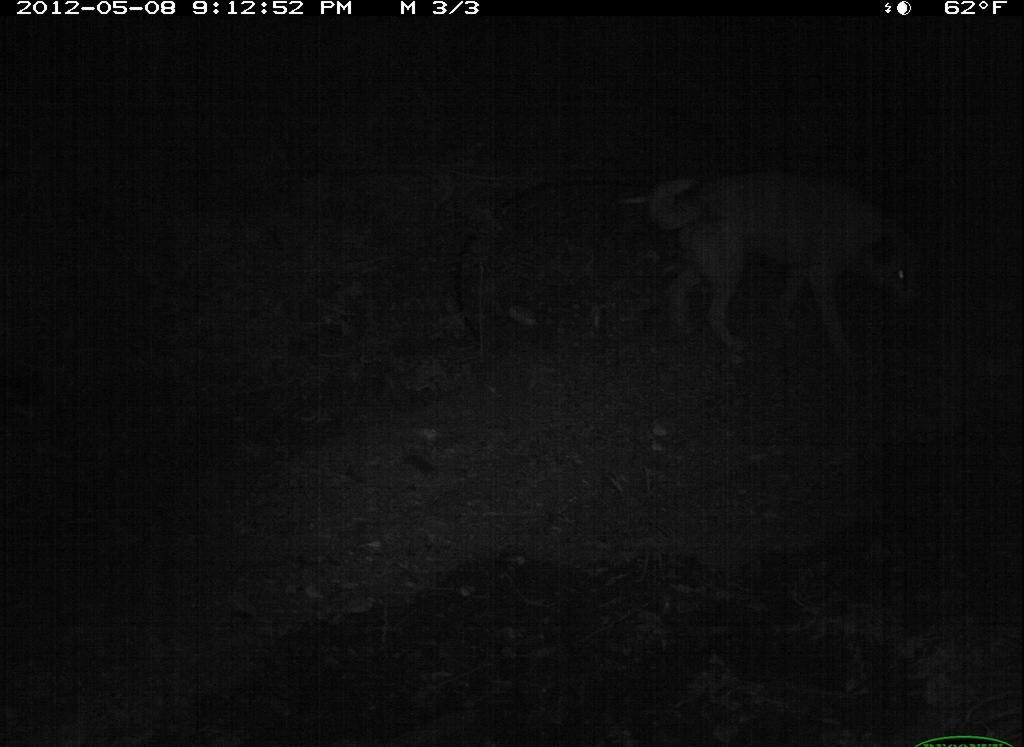dog: (644, 157, 936, 381)
